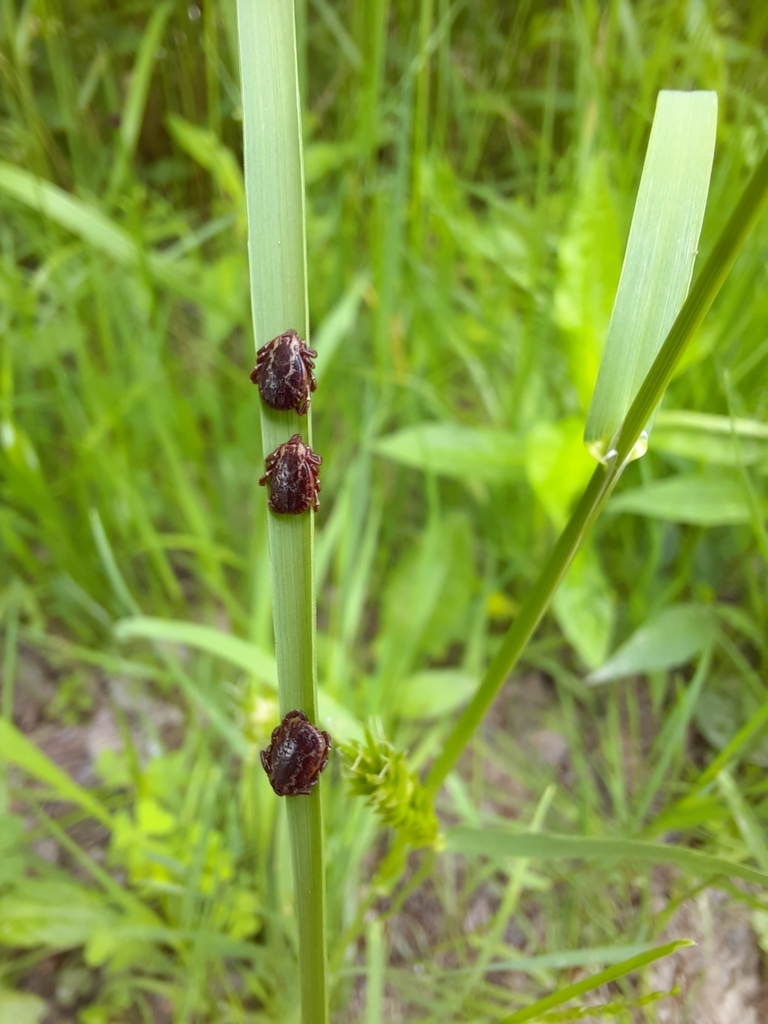garrapata: (227, 310, 325, 423), (228, 433, 344, 521), (253, 711, 339, 809)
